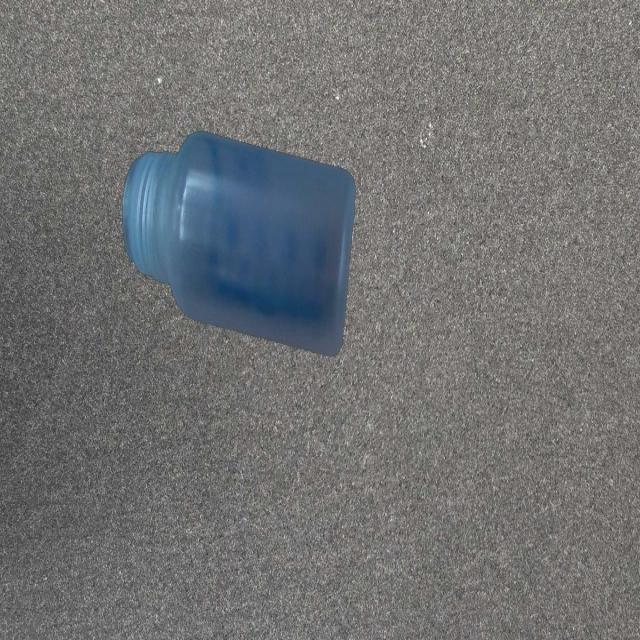bottle: (120, 125, 356, 360)
